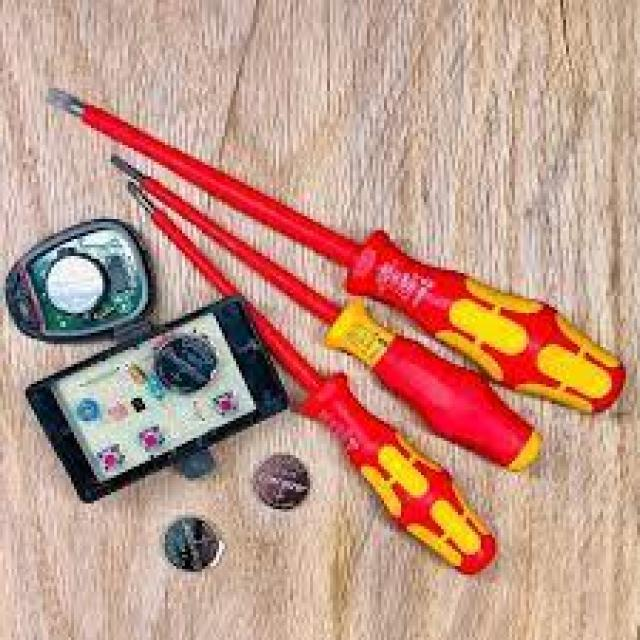screwdriver: (43, 87, 632, 420), (122, 177, 501, 580), (107, 152, 550, 477)
